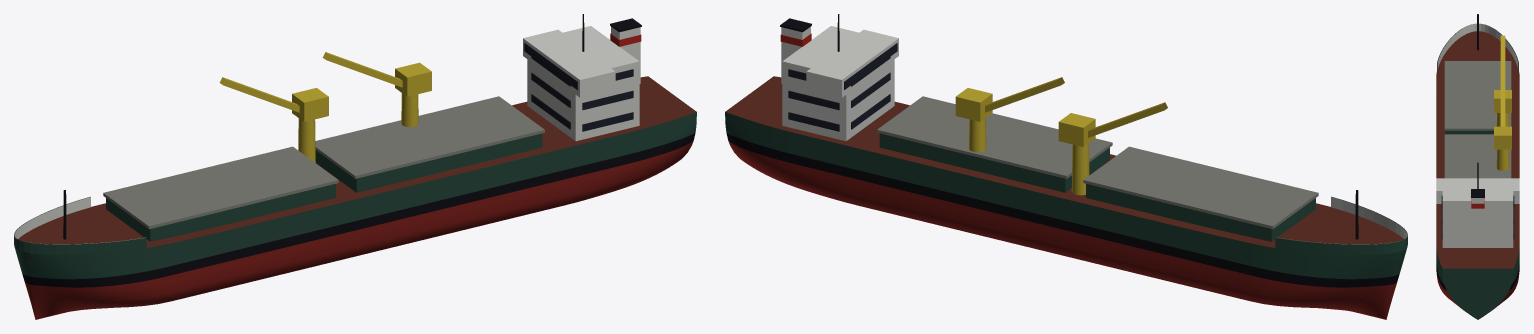
Rendered from general_cargo.glb.
The picture shows the model from 3 angles, left to right: view 1: azimuth 30°, elevation 25°; view 2: azimuth 150°, elevation 25°; view 3: azimuth 270°, elevation 25°; orthographic projection. The views are drawn at different scales.
Parts seen in each view (by area): view 1: general_cargo; view 2: general_cargo; view 3: general_cargo.
Part boxes in pixels (left/top/right/bottom): general_cargo: left=14, top=14, right=696, bottom=319; general_cargo: left=725, top=14, right=1407, bottom=319; general_cargo: left=1436, top=14, right=1519, bottom=319.
Size of the model in its own units: 92.7 by 24.16 by 14.
